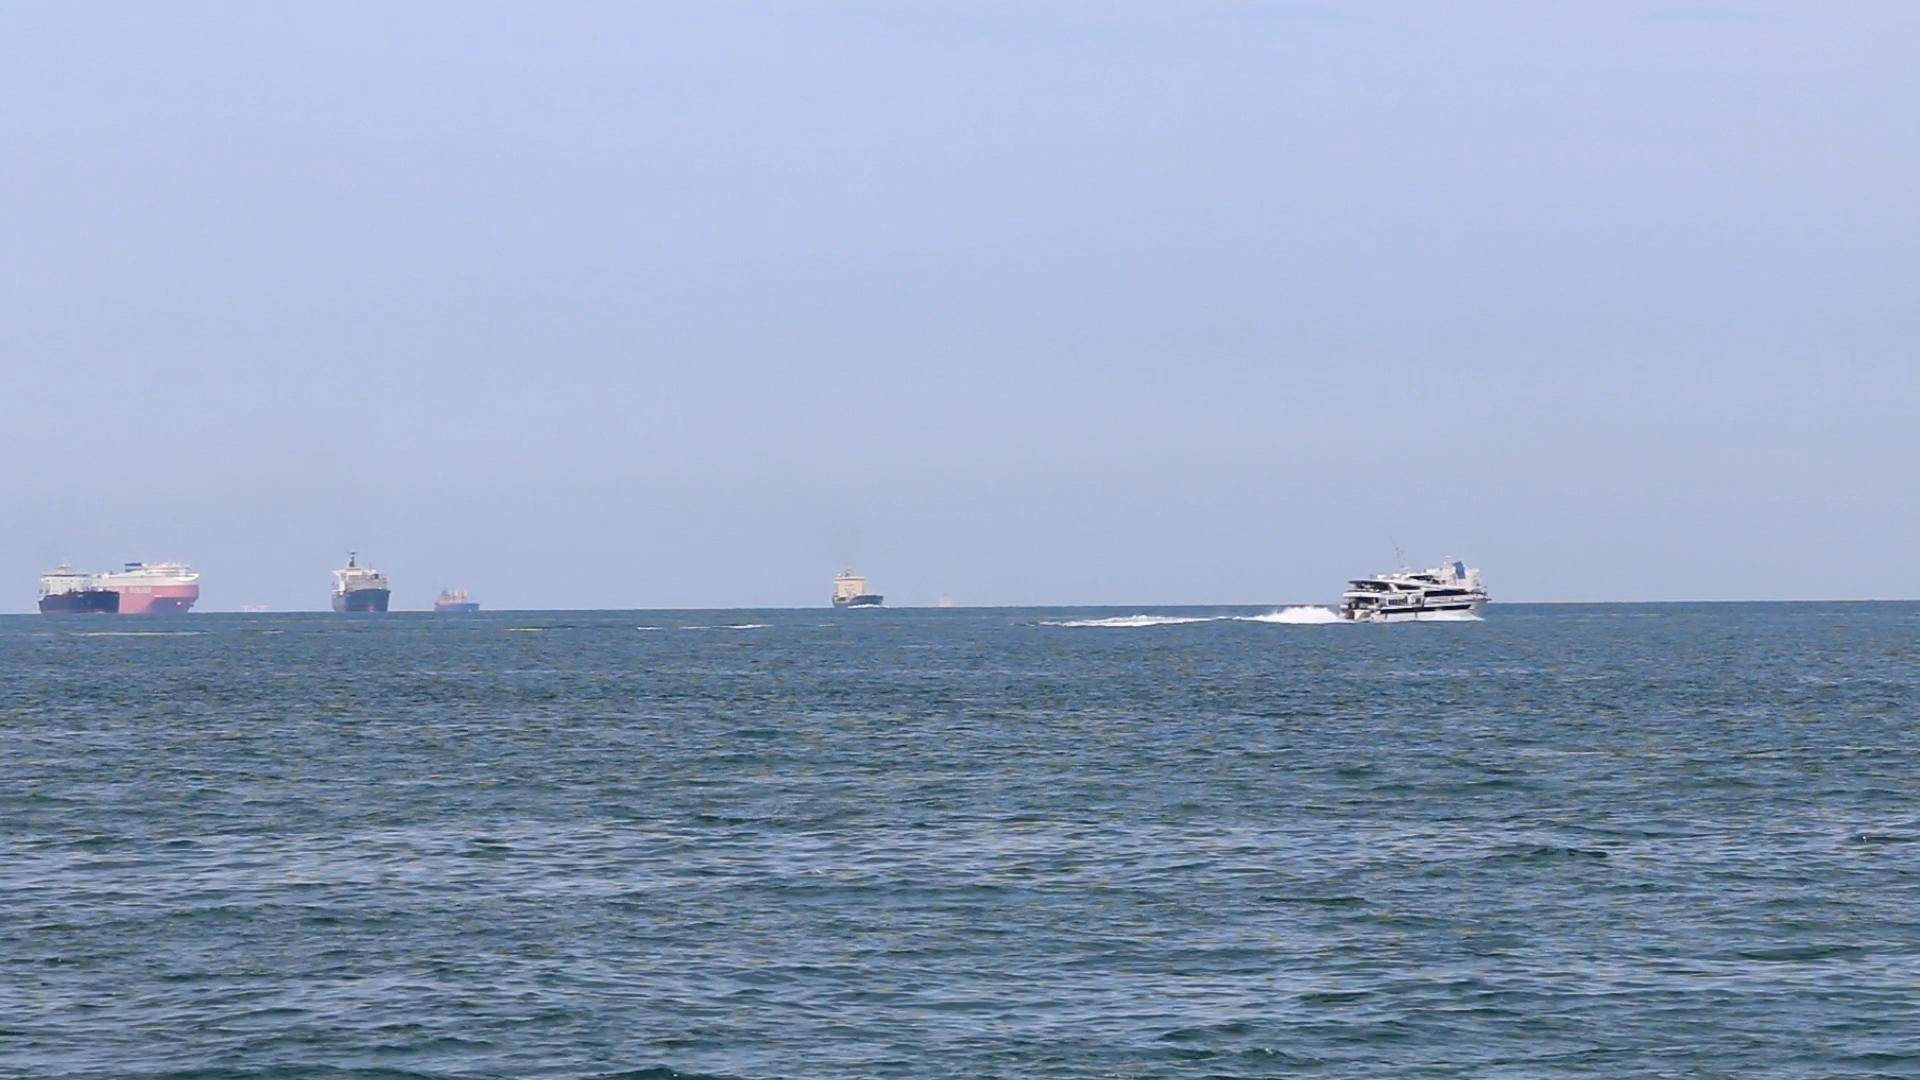Container Ship: (54, 558, 200, 612), (1358, 550, 1490, 609), (334, 537, 390, 617), (40, 568, 121, 615), (823, 556, 881, 604), (433, 571, 485, 615)
